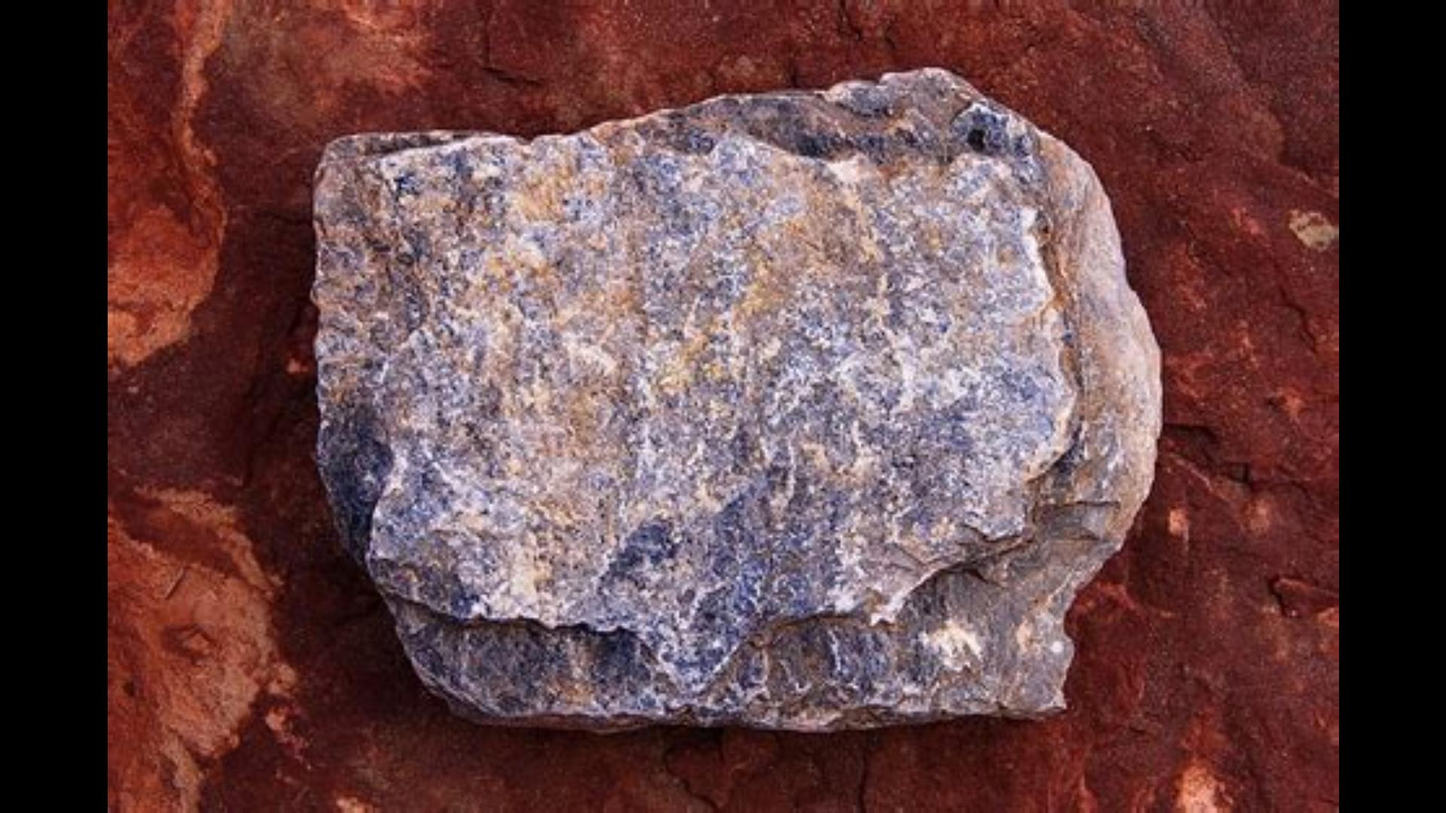rock: (315, 70, 1157, 725)
